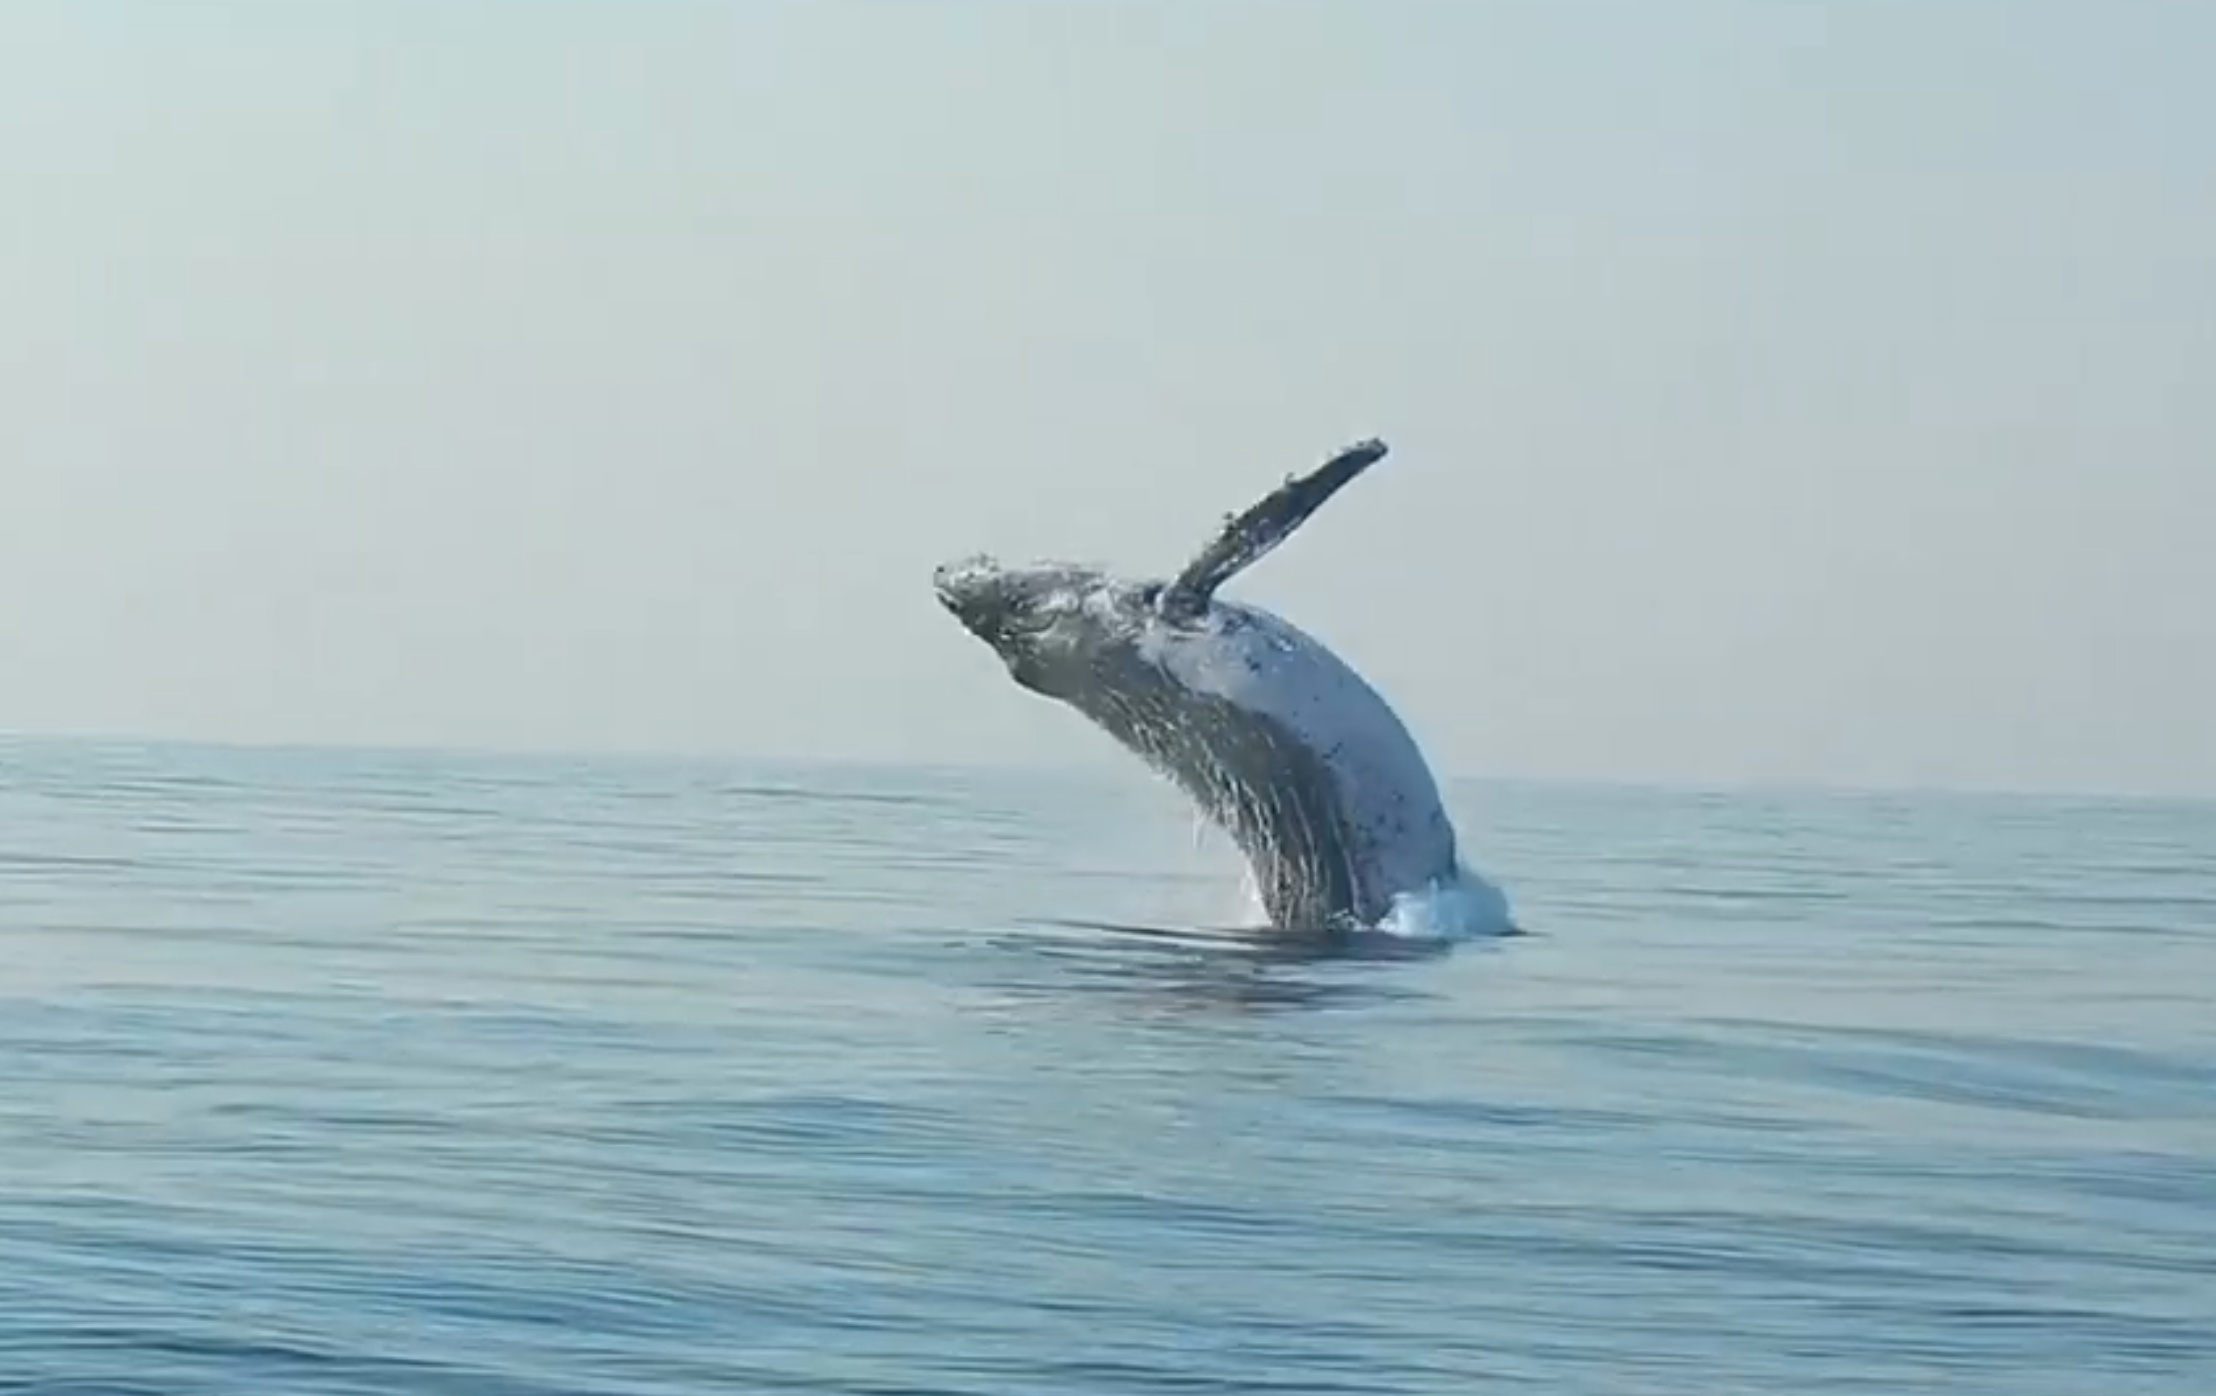humpback: (929, 560, 1460, 933)
